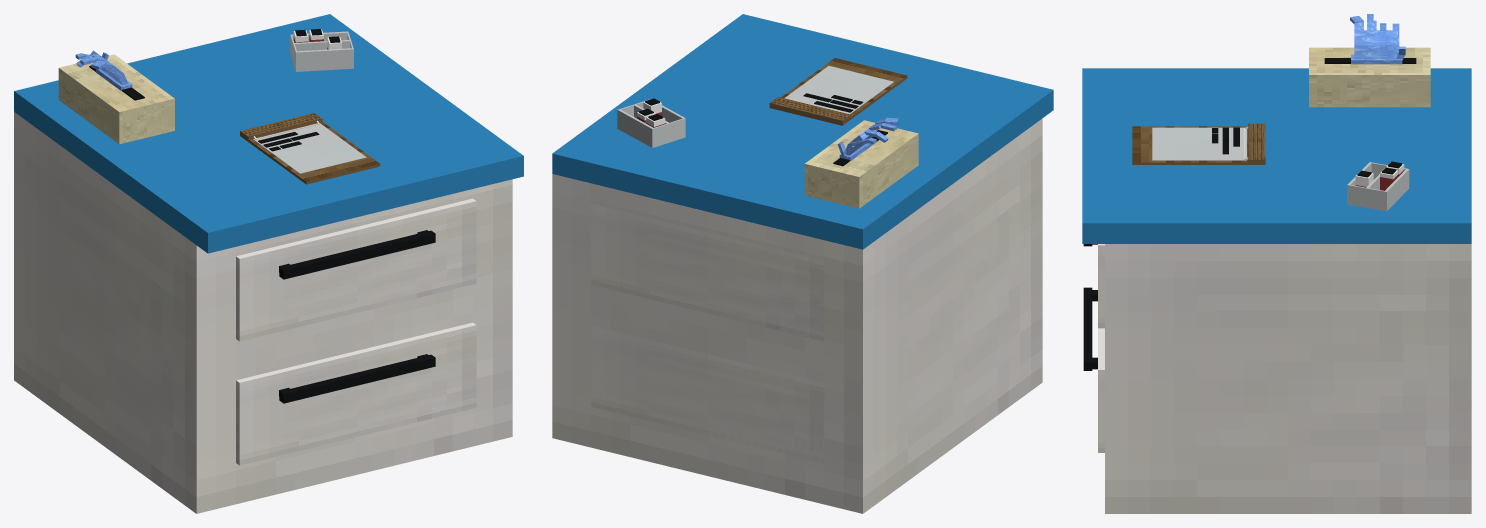
Rendered from hospital_table-transformed.glb.
3 views of the same model, side by side, from view 1: azimuth 30°, elevation 25°; view 2: azimuth 150°, elevation 25°; view 3: azimuth 270°, elevation 25° (orthographic). The views are drawn at different scales.
Visible parts, largest first — view 1: Object_2, Object_3, Object_6, Object_9, Object_4, Object_10, Object_11, Object_5; view 2: Object_2, Object_3, Object_9, Object_4, Object_10, Object_11, Object_5, Object_6; view 3: Object_2, Object_3, Object_9, Object_4, Object_10, Object_11, Object_5, Object_6.
Boxes of the visible parts, x1,y1,x2,y2 form: Object_2: [14, 112, 512, 513]; Object_3: [14, 14, 523, 253]; Object_6: [89, 29, 435, 403]; Object_9: [253, 31, 366, 173]; Object_4: [58, 68, 174, 144]; Object_10: [59, 54, 174, 111]; Object_11: [240, 113, 380, 184]; Object_5: [75, 50, 132, 90]; Object_2: [552, 98, 1042, 513]; Object_3: [552, 14, 1053, 249]; Object_9: [617, 66, 893, 147]; Object_4: [804, 134, 918, 208]; Object_10: [805, 120, 918, 176]; Object_11: [769, 58, 907, 125]; Object_5: [837, 117, 898, 161]; Object_6: [639, 93, 887, 166]; Object_2: [1098, 126, 1471, 513]; Object_3: [1082, 68, 1471, 243]; Object_9: [1152, 127, 1409, 211]; Object_4: [1309, 75, 1430, 107]; Object_10: [1309, 47, 1430, 74]; Object_11: [1132, 123, 1265, 164]; Object_5: [1350, 14, 1405, 64]; Object_6: [1083, 58, 1416, 370].
Size of the model in its own units: 16 by 17.03 by 17.
Materials: 10 (10 with a texture image).
